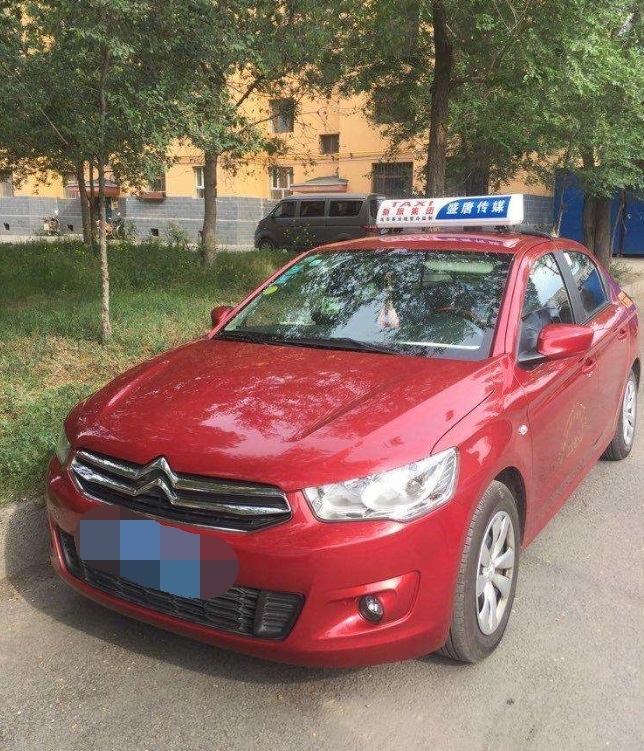taxi: (25, 173, 644, 670)
